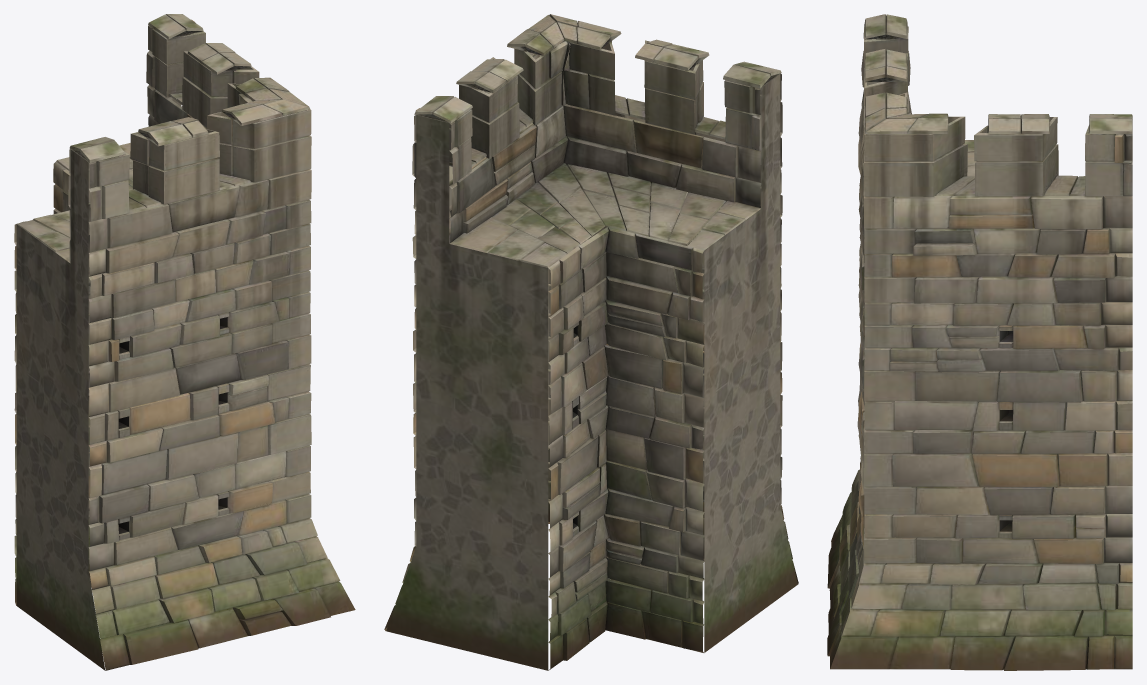
Rendered from wall_stone_corner.glb.
The picture shows the model from 3 angles, left to right: view 1: azimuth 30°, elevation 25°; view 2: azimuth 150°, elevation 25°; view 3: azimuth 270°, elevation 25°; orthographic projection. The views are drawn at different scales.
Parts seen in each view (by area): view 1: wall_stone_corner_LOD0; view 2: wall_stone_corner_LOD0; view 3: wall_stone_corner_LOD0.
Part boxes in pixels (x1,y1,x2,y2): wall_stone_corner_LOD0: (14, 14, 355, 670); wall_stone_corner_LOD0: (384, 14, 798, 670); wall_stone_corner_LOD0: (827, 14, 1132, 670).
Size of what is drawn, in the model's own units: 4.83 by 9.23 by 4.83.
Materials: 1 (1 with a texture image).
